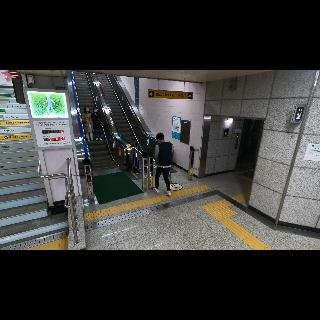normal: (152, 132, 174, 198), (90, 106, 104, 142), (80, 106, 92, 142)
